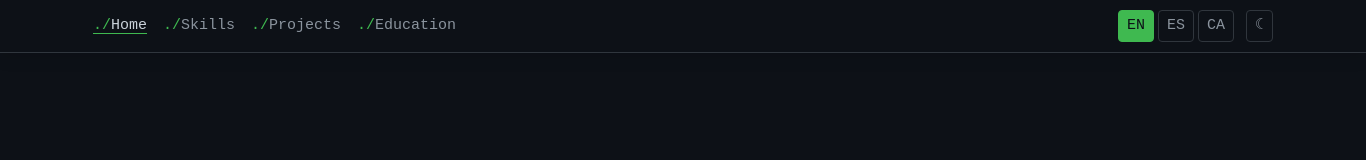
Scenario: TopBar › switches and persists the language
Click the button "ES" at point(1176, 26), box [1158, 10, 1194, 42]
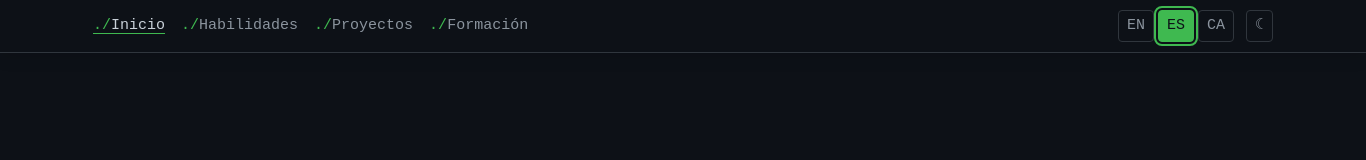
Now the link "Inicio" is shown, box [93, 14, 165, 38]
